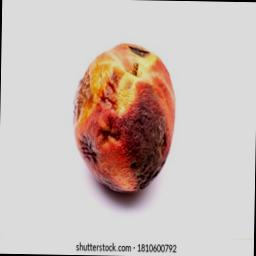Peach Rotten: (64, 38, 178, 196)
